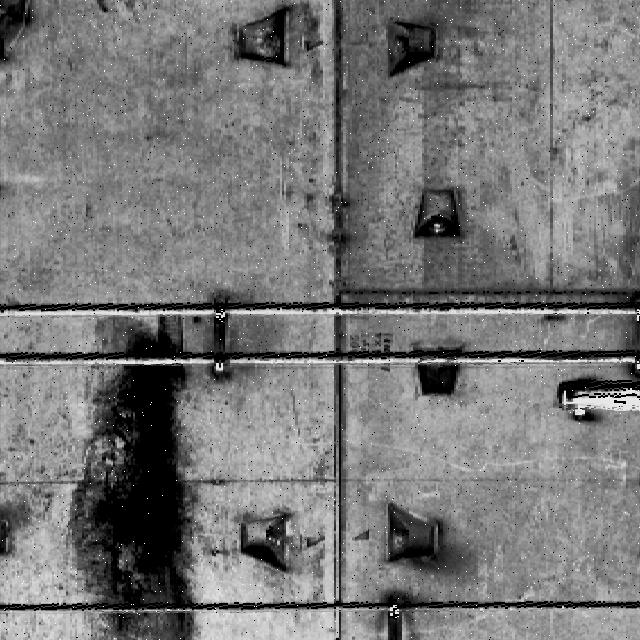leakage: (64, 317, 200, 639)
